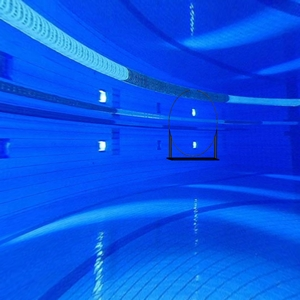circle: (166, 88, 223, 166)
